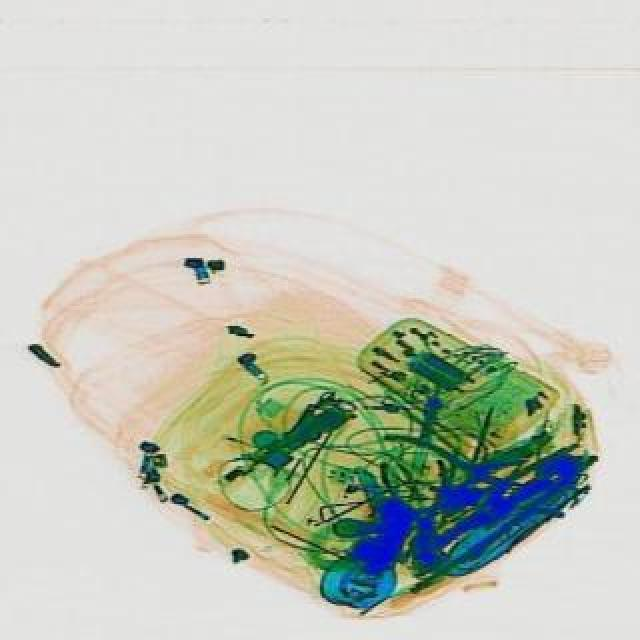wrench: (386, 432, 534, 516)
